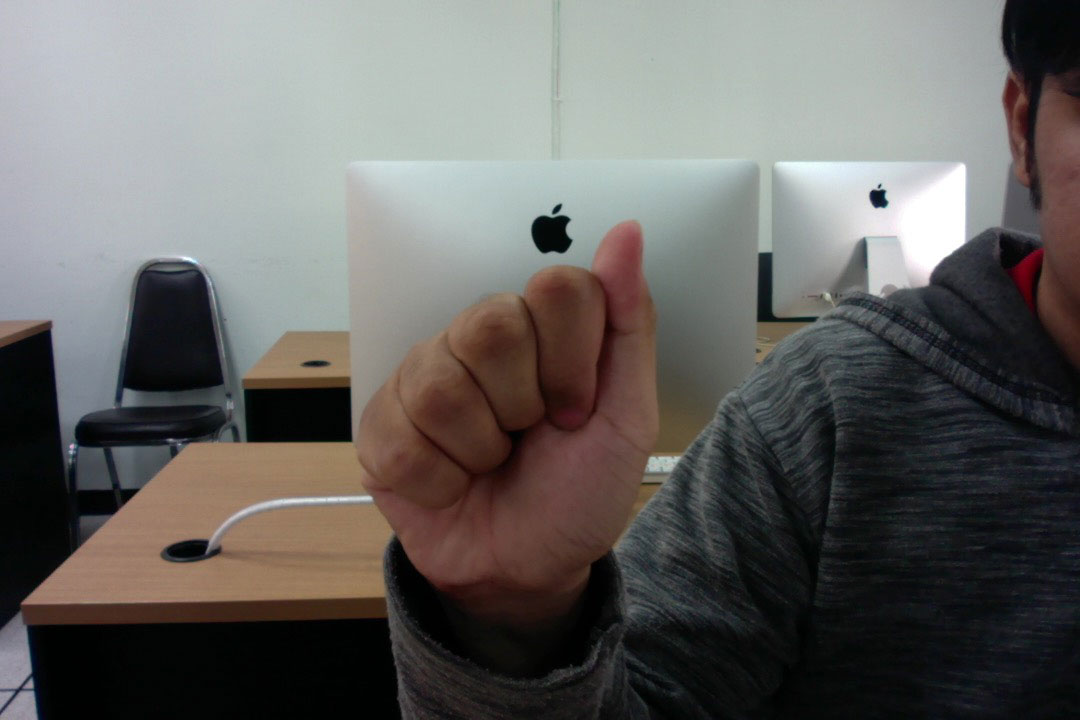or: (348, 204, 673, 609)
